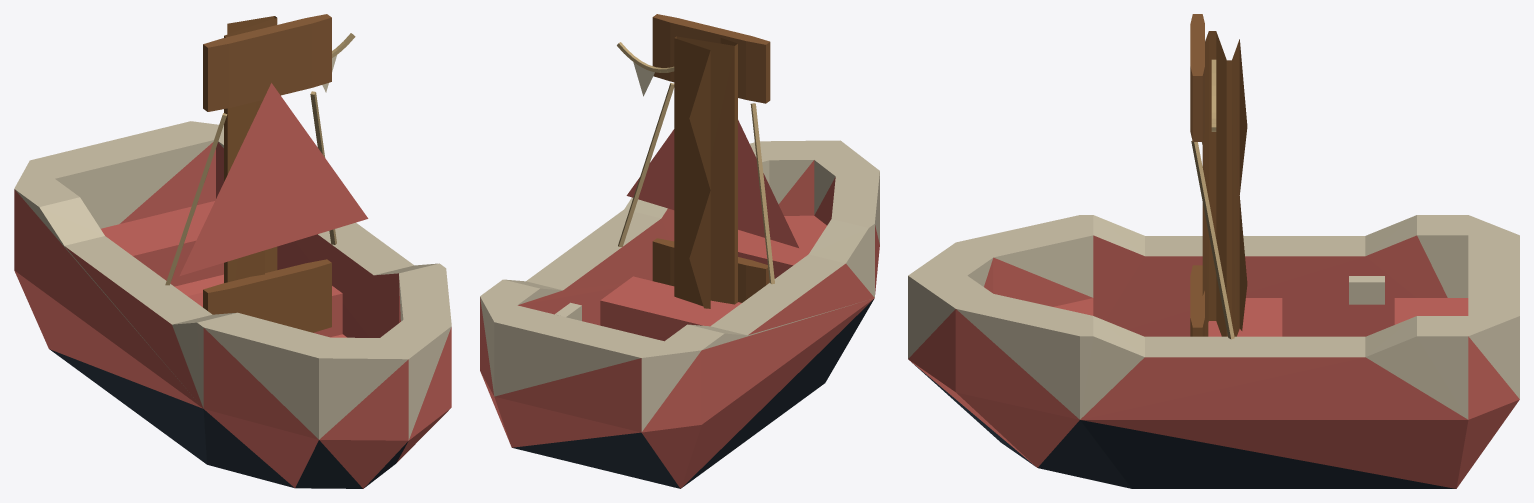
Rendered from moored-sailboat.glb.
3 views of the same model, side by side, from view 1: azimuth 30°, elevation 25°; view 2: azimuth 150°, elevation 25°; view 3: azimuth 270°, elevation 25° (orthographic). The views are drawn at different scales.
Visible parts, largest first — view 1: moored-sailboat; view 2: moored-sailboat; view 3: moored-sailboat.
Part boxes in pixels (<box>): moored-sailboat: <box>14,14,451,488</box>; moored-sailboat: <box>480,14,879,488</box>; moored-sailboat: <box>908,14,1519,488</box>.
Size of the model in its own units: 1.76 by 2.69 by 3.75.
